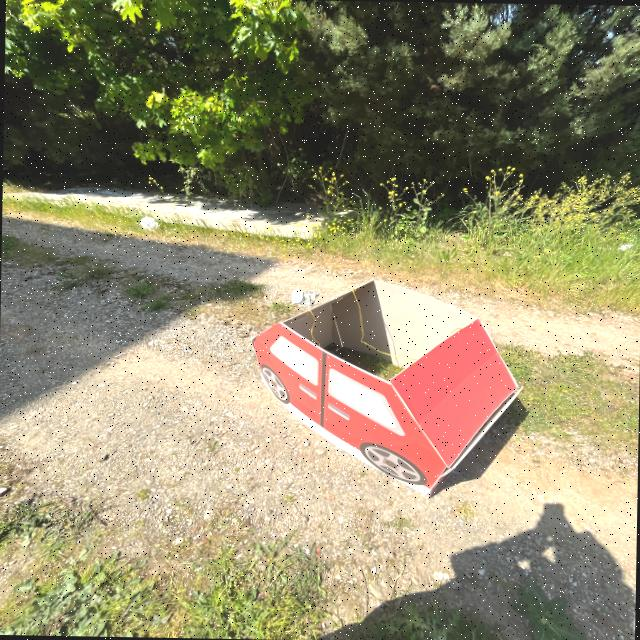red_car: (226, 267, 570, 520)
